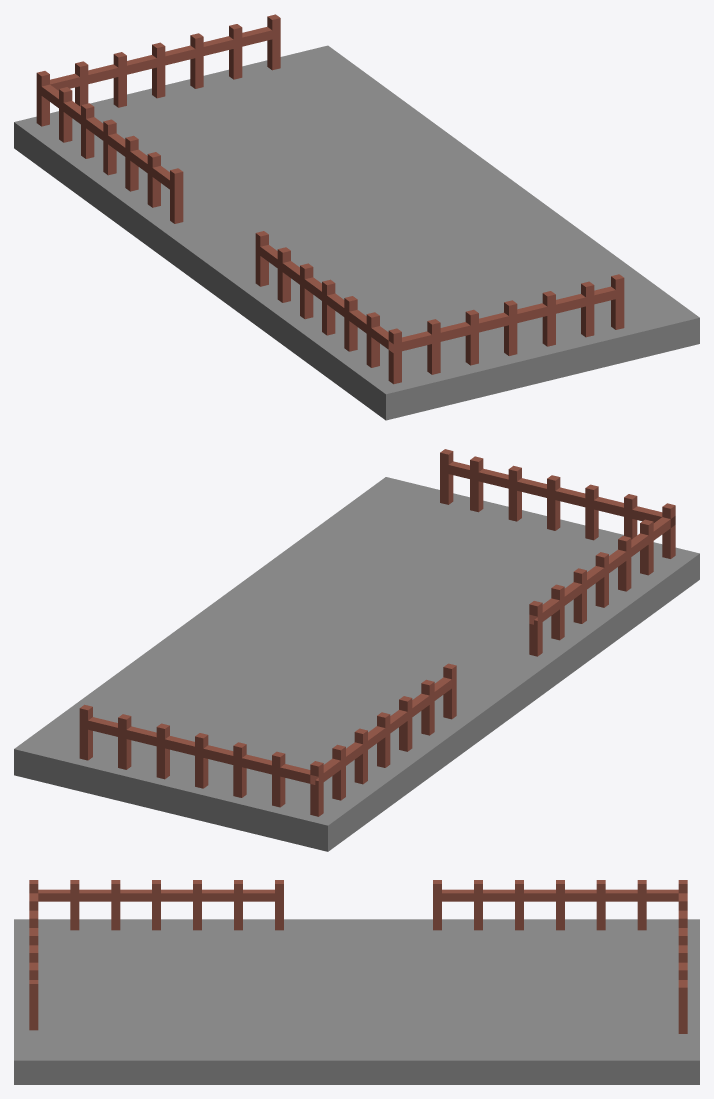
Rendered from 10-estacio.fbx.
3 views of the same model, one above another, from view 1: azimuth 30°, elevation 25°; view 2: azimuth 150°, elevation 25°; view 3: azimuth 270°, elevation 25° (orthographic). The views are drawn at different scales.
Parts seen in each view (by area): view 1: Estacio; view 2: Estacio; view 3: Estacio.
Part boxes in pixels (x1,y1,x2,y2): Estacio: [14, 14, 699, 420]; Estacio: [14, 449, 699, 851]; Estacio: [14, 880, 699, 1084].
Size of the model in its own units: 433 by 101 by 889.
